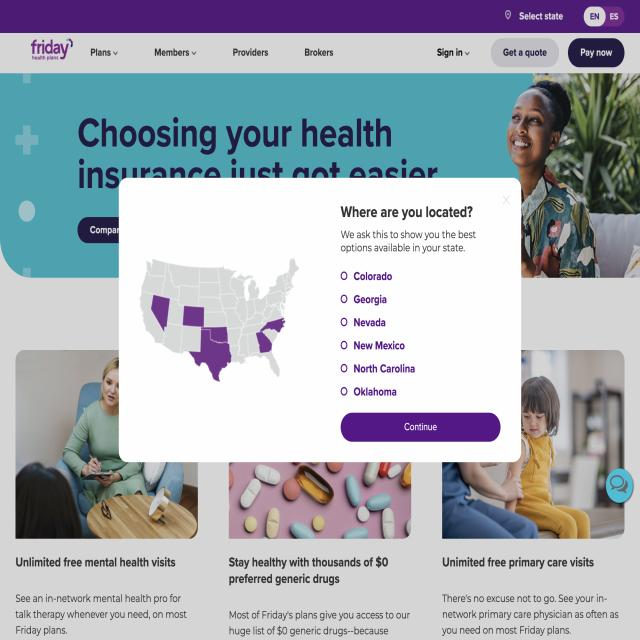Logo: (21, 32, 77, 71)
Navigation: (86, 36, 344, 67)
